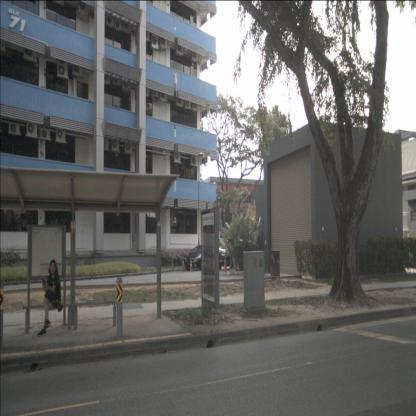human-pedestrian-adult: (36, 259, 64, 337)
movable_object-trafficcone: (223, 258, 226, 272), (171, 260, 174, 272), (182, 260, 185, 272), (190, 258, 192, 272)
vehicle-car: (213, 237, 253, 271), (183, 244, 222, 271)
